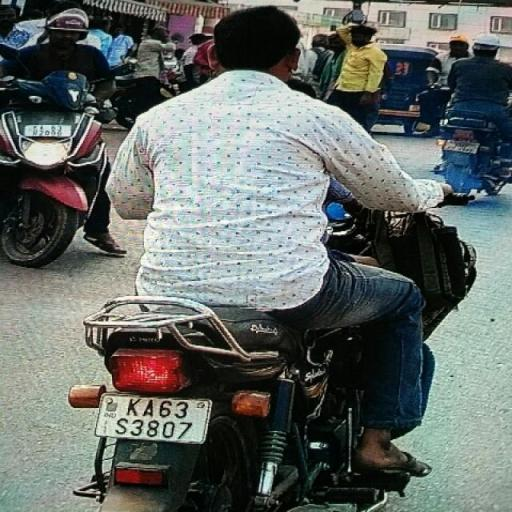bike: (61, 2, 485, 512)
numberplate: (96, 389, 209, 447)
withouthelmet: (216, 9, 296, 66)
